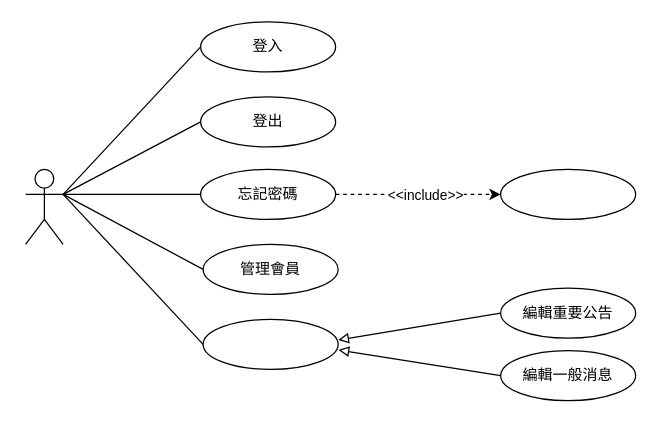
Image size: 658x423. Some labels were removed from this diagram. The shapes that lost their labels are listed below. From the top down, each one's centre as x and y in pixels, then its label:
At point (43, 206): "管理員".
At point (567, 193): "更改密碼".
At point (270, 343): "管理最新消息".
